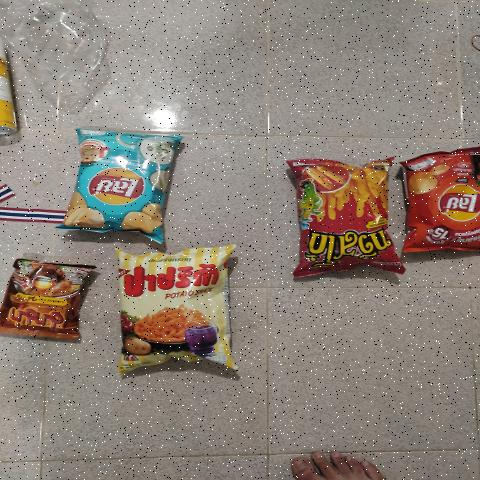lay_blue: (82, 134, 166, 235)
mama: (17, 262, 76, 336)
paprika: (125, 259, 227, 368)
twisco: (304, 170, 378, 268)
